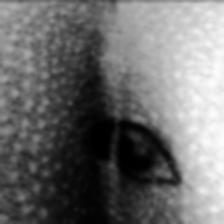Potentially Malignant Skin Tumors: (86, 116, 181, 190)
